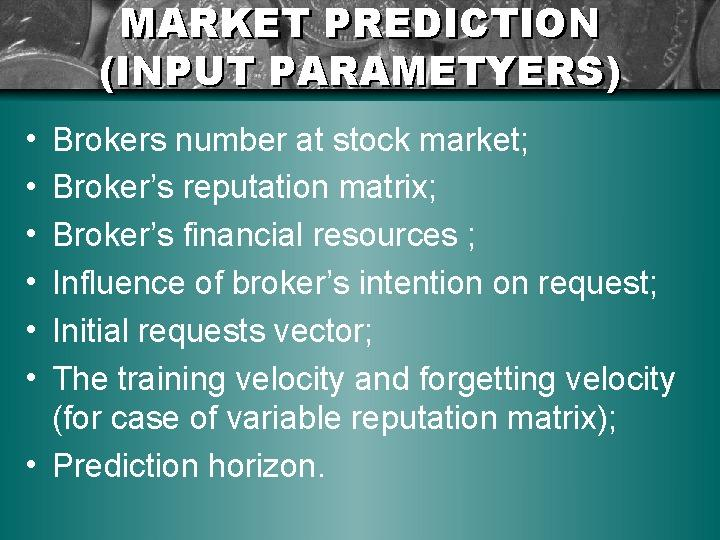paragraph: (21, 116, 696, 502)
title: (95, 1, 630, 106)
